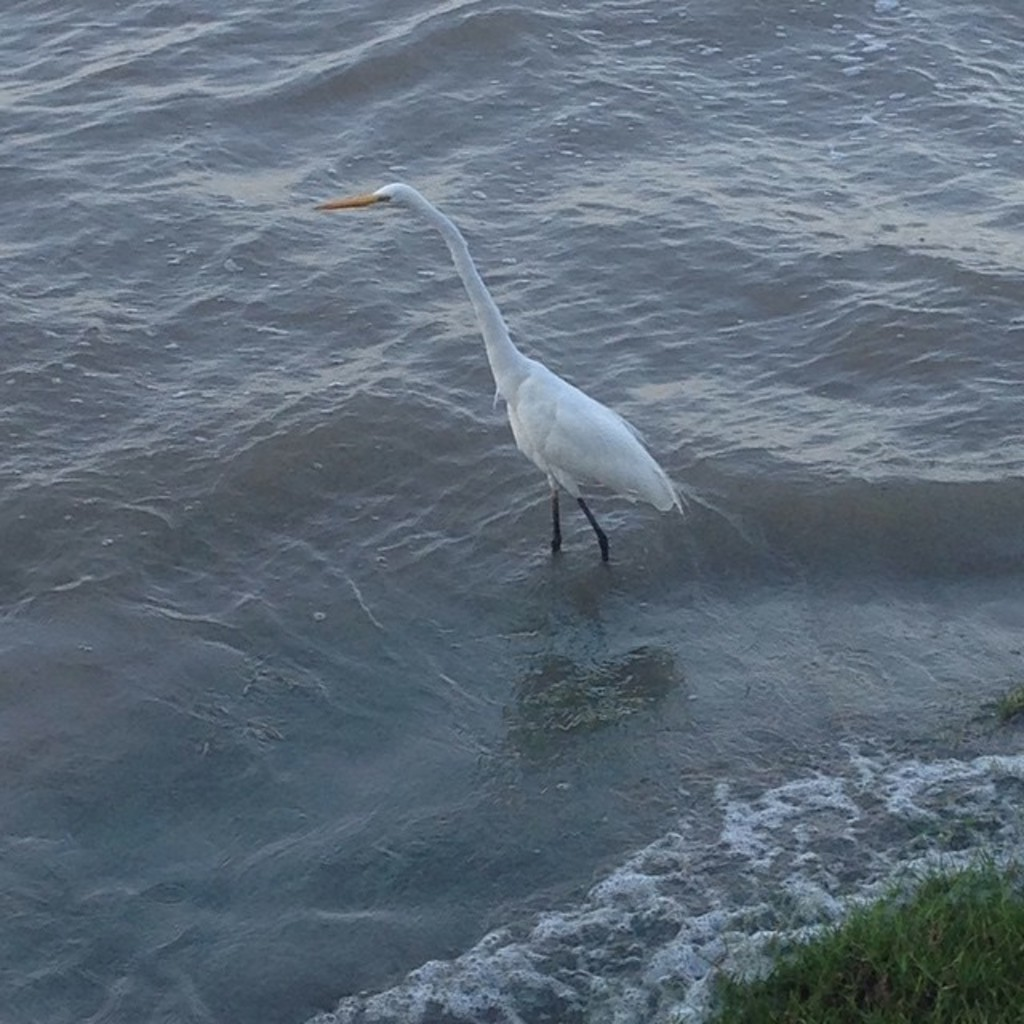Animal: (306, 178, 684, 567)
